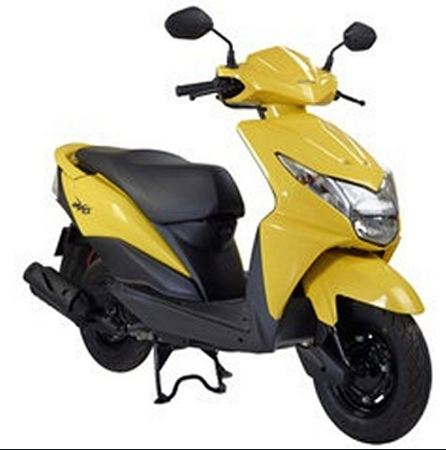bike: (23, 6, 434, 445)
